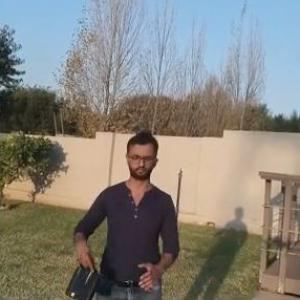follow: (58, 126, 183, 299)
